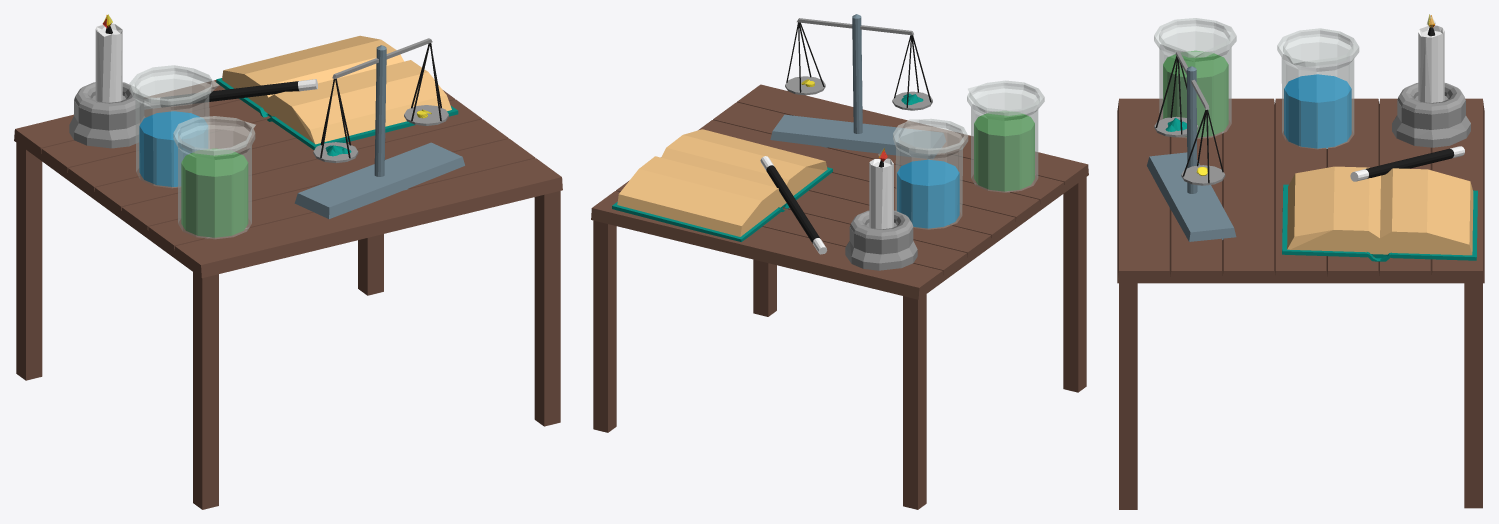
File: wizardtable.glb
The picture shows the model from 3 angles, left to right: view 1: azimuth 30°, elevation 25°; view 2: azimuth 150°, elevation 25°; view 3: azimuth 270°, elevation 25°; orthographic projection. The views are drawn at different scales.
Parts seen in each view (by area): view 1: group1451185089, group681728191, group1538916877, group1700564731, group1365531588, group2143320339, group1221069369, group982605879, group232372156, group1069467270, group1236333092, group701554734 (+9 smaller); view 2: group681728191, group271774997, group1538916877, group1365531588, group1700564731, group982605879, group1069467270, group49576262, group1451185089, group232372156, group1236333092, group2143320339 (+9 smaller); view 3: group681728191, group2143320339, group1451185089, group1365531588, group1538916877, group1069467270, group1700564731, group21001001, group1221069369, group49576262, group271774997, group701554734 (+8 smaller).
Part boxes in pixels (bbox=[...]): group1451185089: bbox=[174, 158, 562, 278]; group681728191: bbox=[222, 35, 451, 144]; group1538916877: bbox=[173, 116, 255, 238]; group1700564731: bbox=[294, 38, 464, 218]; group1365531588: bbox=[129, 65, 219, 187]; group2143320339: bbox=[121, 119, 508, 238]; group1221069369: bbox=[534, 191, 560, 426]; group982605879: bbox=[16, 143, 42, 380]; group232372156: bbox=[193, 272, 218, 509]; group1069467270: bbox=[69, 14, 145, 148]; group1236333092: bbox=[181, 148, 248, 237]; group701554734: bbox=[94, 99, 481, 218]; group681728191: bbox=[617, 129, 827, 236]; group271774997: bbox=[591, 191, 943, 299]; group1538916877: bbox=[967, 80, 1044, 192]; group1365531588: bbox=[893, 119, 968, 229]; group1700564731: bbox=[770, 14, 945, 159]; group982605879: bbox=[903, 294, 926, 509]; group1069467270: bbox=[845, 148, 917, 270]; group49576262: bbox=[593, 220, 616, 432]; group1451185089: bbox=[737, 84, 1088, 192]; group232372156: bbox=[1063, 177, 1086, 392]; group1236333092: bbox=[974, 111, 1034, 191]; group2143320339: bbox=[698, 120, 1039, 228]; group681728191: bbox=[1287, 166, 1473, 255]; group2143320339: bbox=[1222, 98, 1274, 283]; group1451185089: bbox=[1117, 98, 1170, 283]; group1365531588: bbox=[1277, 28, 1359, 148]; group1538916877: bbox=[1154, 18, 1236, 138]; group1069467270: bbox=[1392, 14, 1470, 147]; group1700564731: bbox=[1147, 51, 1236, 241]; group21001001: bbox=[1284, 74, 1351, 148]; group1221069369: bbox=[1119, 283, 1137, 509]; group49576262: bbox=[1464, 283, 1482, 508]; group271774997: bbox=[1430, 98, 1484, 283]; group701554734: bbox=[1274, 98, 1327, 283].
Size of the model in its own units: 2.42 by 2.47 by 2.18.
